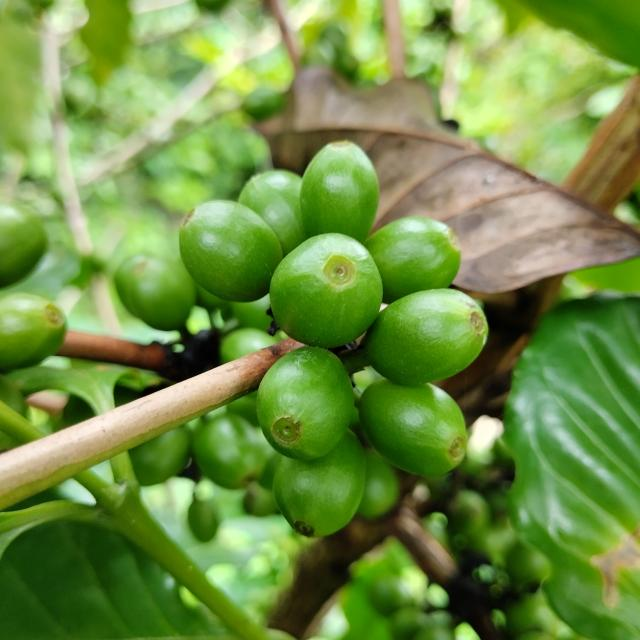green: (269, 233, 383, 348), (365, 288, 489, 386), (257, 347, 355, 461), (359, 379, 468, 477), (179, 200, 283, 302), (273, 431, 366, 538), (365, 216, 461, 304), (300, 140, 379, 242), (238, 169, 307, 255), (193, 414, 266, 489), (0, 293, 65, 372)
